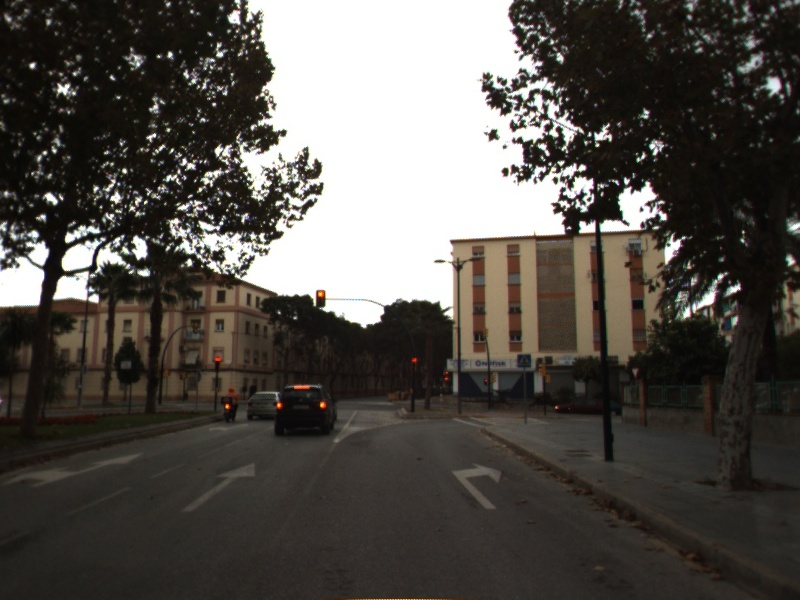RIGHT: (448, 460, 505, 512)
STRAIGHT: (179, 459, 258, 515)
STRAIGHT_LEFT: (1, 448, 149, 491)
